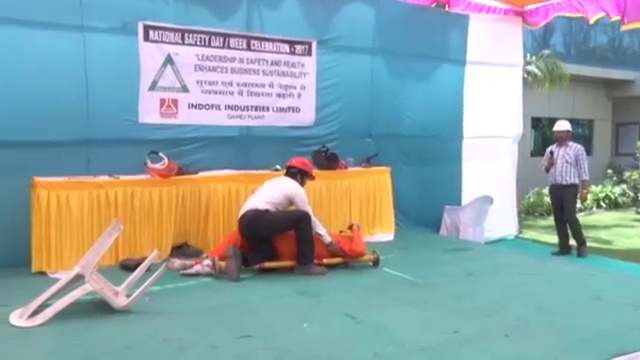helmet: (287, 155, 317, 181), (552, 117, 574, 133)
helmet_on: (285, 154, 317, 189), (551, 116, 573, 146)
person: (223, 153, 329, 285), (165, 227, 367, 276), (538, 117, 592, 260)
